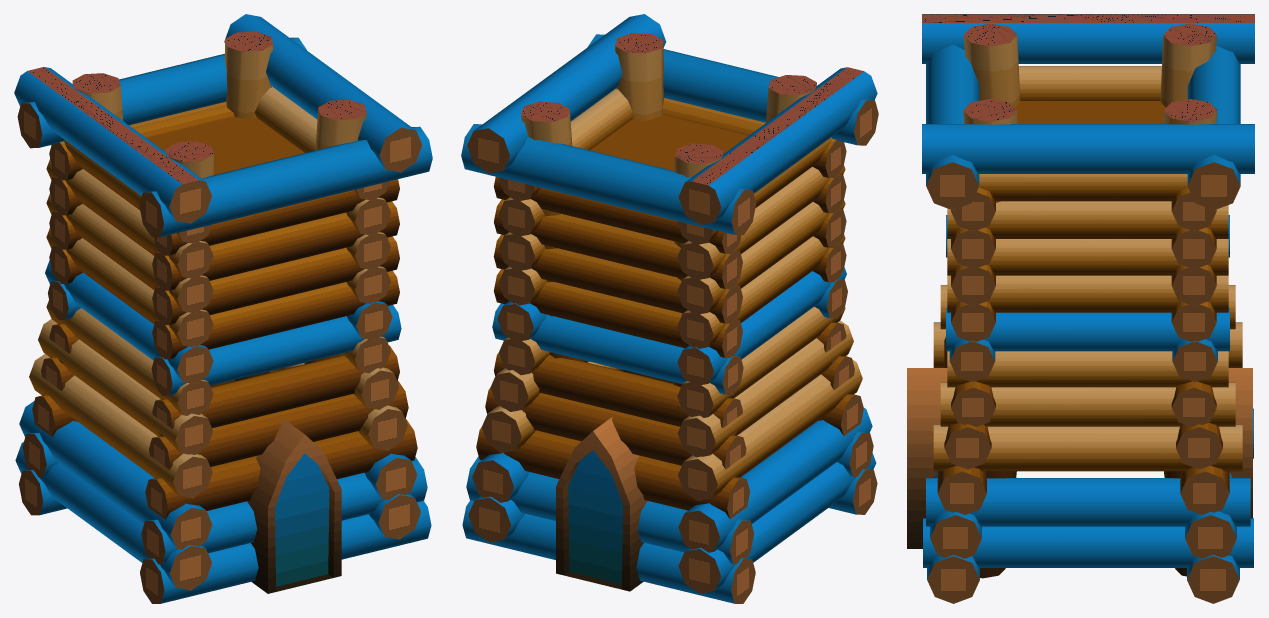
File: TowerLv3Phase2.fbx
The picture shows the model from 3 angles, left to right: view 1: azimuth 30°, elevation 25°; view 2: azimuth 150°, elevation 25°; view 3: azimuth 270°, elevation 25°; orthographic projection. The views are drawn at different scales.
Visible parts, largest first — view 1: tower_lvl3; view 2: tower_lvl3; view 3: tower_lvl3.
Part boxes in pixels (box(x1,y1,x2,y2)): tower_lvl3: box(14, 14, 432, 603); tower_lvl3: box(461, 14, 878, 603); tower_lvl3: box(907, 14, 1254, 603).
Size of the model in its own units: 23.68 by 36.27 by 24.72.
